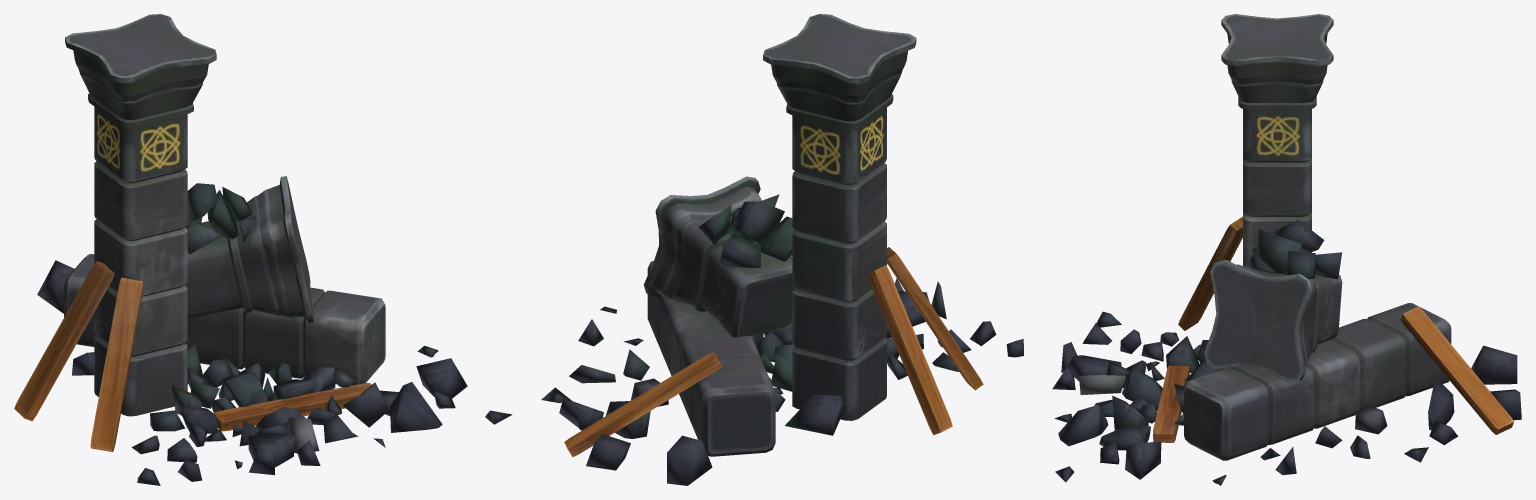
File: pillar.glb
3 renders of one model, left to right at view 1: azimuth 30°, elevation 25°; view 2: azimuth 150°, elevation 25°; view 3: azimuth 270°, elevation 25°, orthographic. The views are drawn at different scales.
Parts seen in each view (by area): view 1: Cube.419__0; view 2: Cube.419__0; view 3: Cube.419__0.
Boxes of the visible parts, x1,y1,x2,y2 form: Cube.419__0: [14, 14, 512, 485]; Cube.419__0: [541, 14, 1023, 485]; Cube.419__0: [1052, 14, 1521, 485].
Bounding box in the file's own units: 7.02 × 6.43 × 7.99.
1 material, 1 textured.
